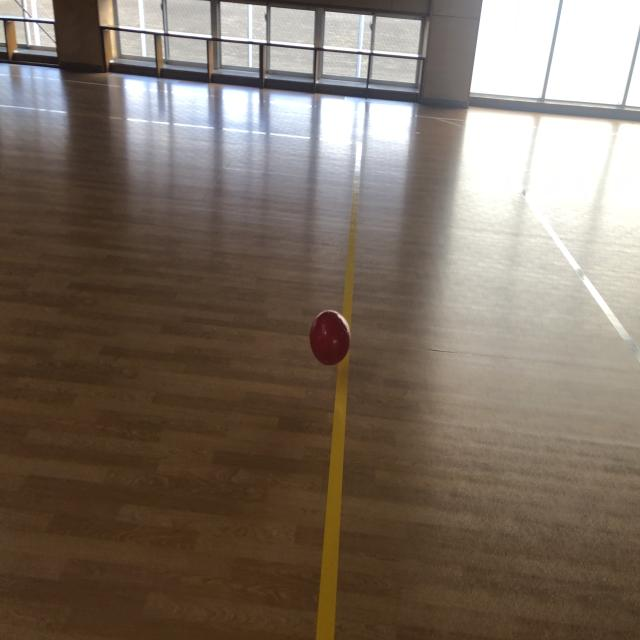red_ball: (309, 308, 348, 367)
